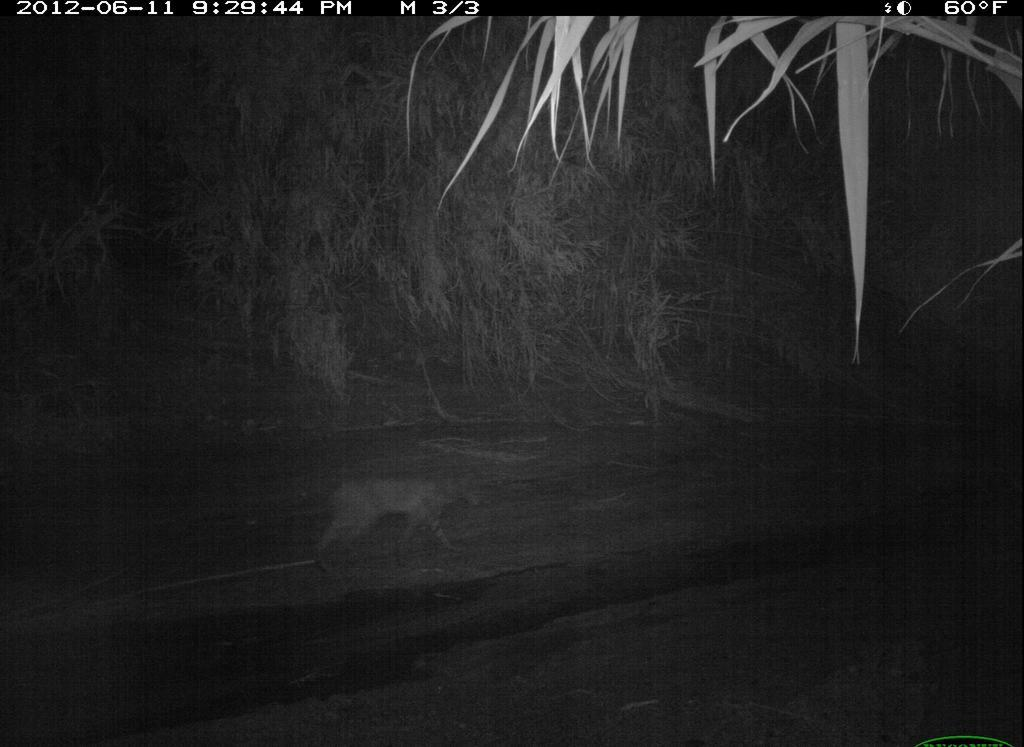bobcat: (299, 443, 504, 577)
